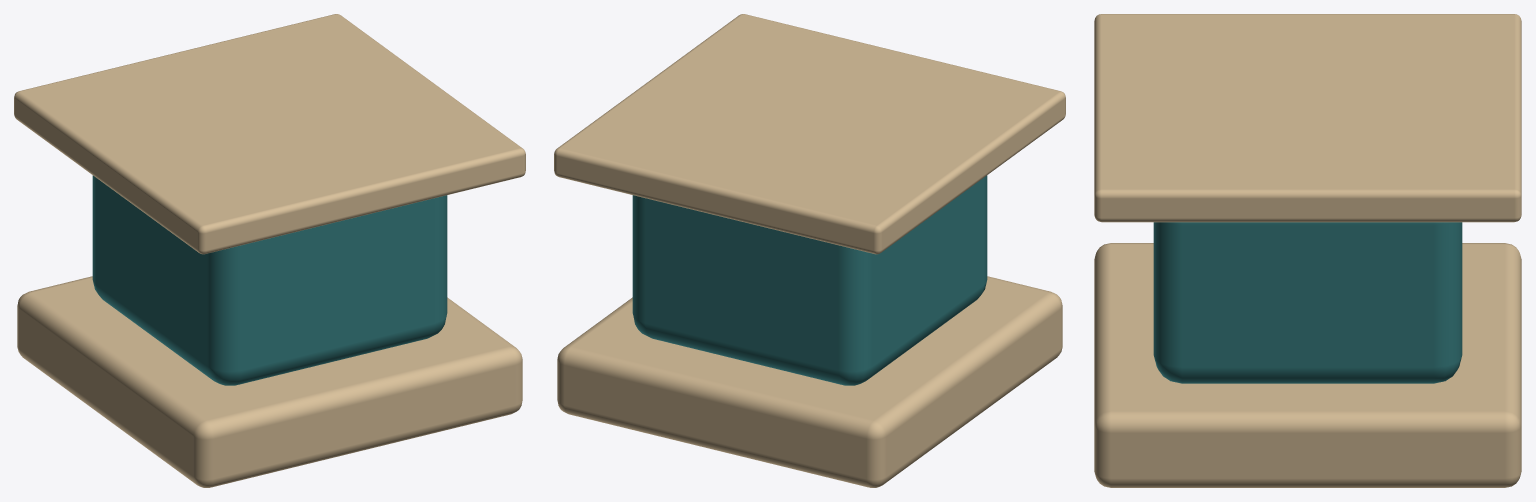
File: tabletop-hobby-store-and-club-display-plinth-a2225b79__31612.glb
The picture shows the model from 3 angles, left to right: view 1: azimuth 30°, elevation 25°; view 2: azimuth 150°, elevation 25°; view 3: azimuth 270°, elevation 25°; orthographic projection. The views are drawn at different scales.
Visible parts, largest first — view 1: display-plinth; view 2: display-plinth; view 3: display-plinth.
Boxes of the visible parts, x1=… form: display-plinth: x1=14, y1=14, x2=525, y2=487; display-plinth: x1=554, y1=14, x2=1065, y2=487; display-plinth: x1=1094, y1=14, x2=1521, y2=487.
Bounding box in the file's own units: 0.18 × 0.14 × 0.18.
